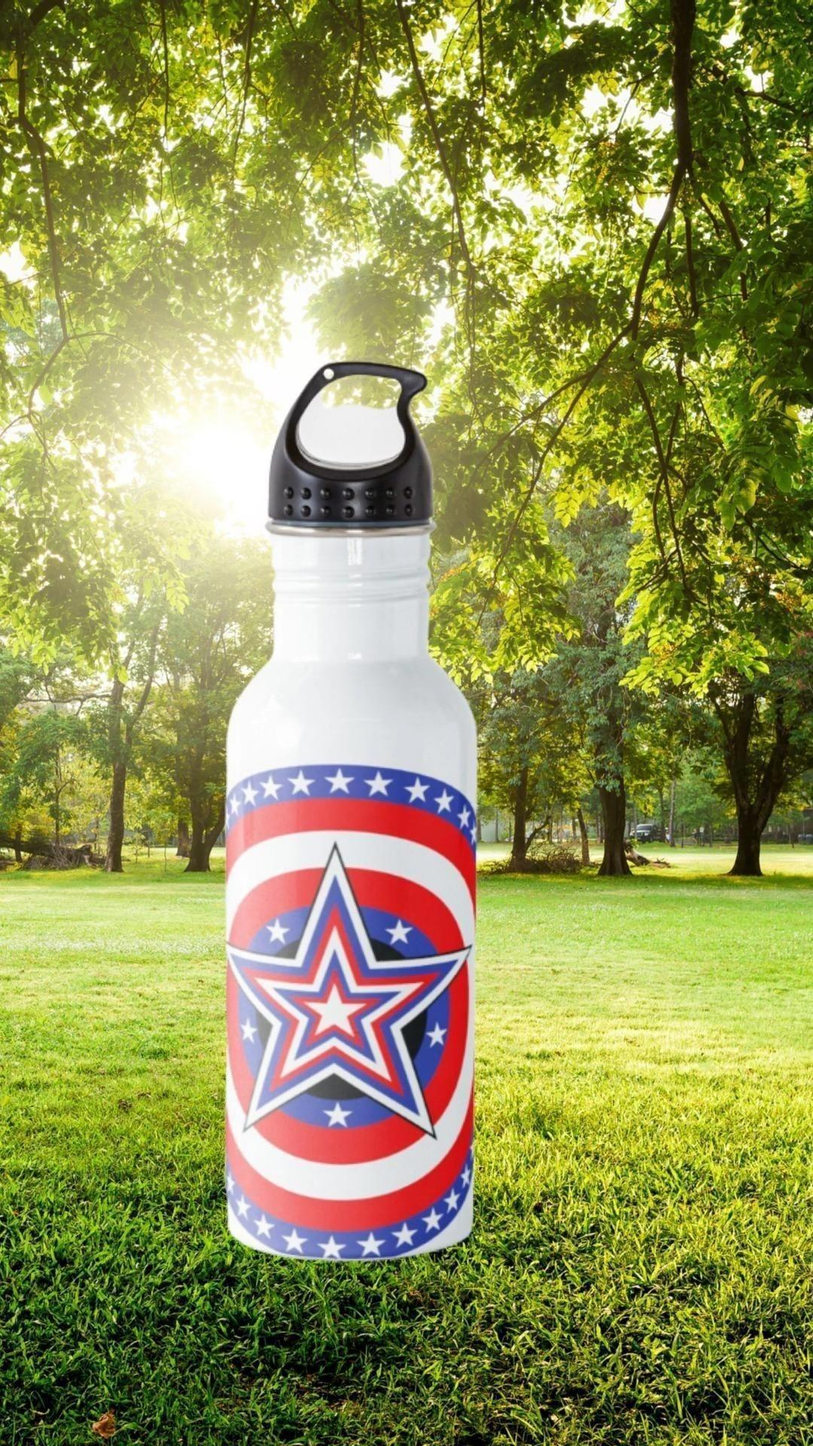gym bottle: (220, 358, 479, 1263)
